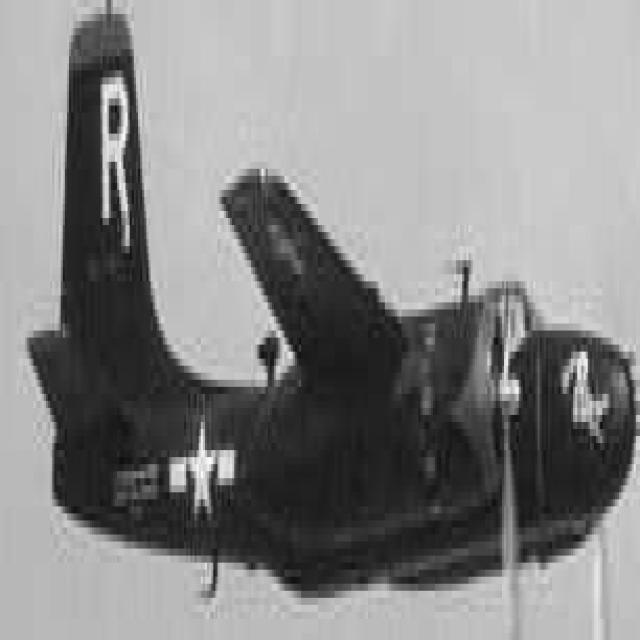Aircraft: (46, 16, 632, 586)
